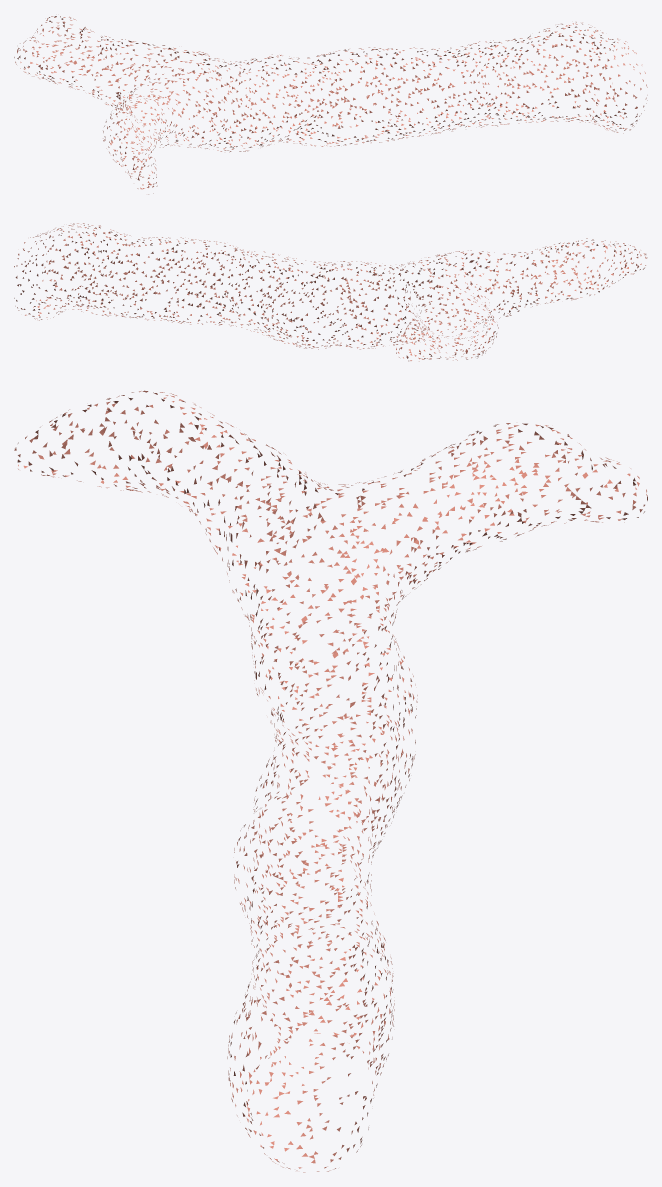
Rendered from morph_002.glb.
3 views of the same model, one above another, from view 1: azimuth 30°, elevation 25°; view 2: azimuth 150°, elevation 25°; view 3: azimuth 270°, elevation 25° (orthographic). The views are drawn at different scales.
Bounding box in the file's own units: 144 × 43.38 × 78.28.
